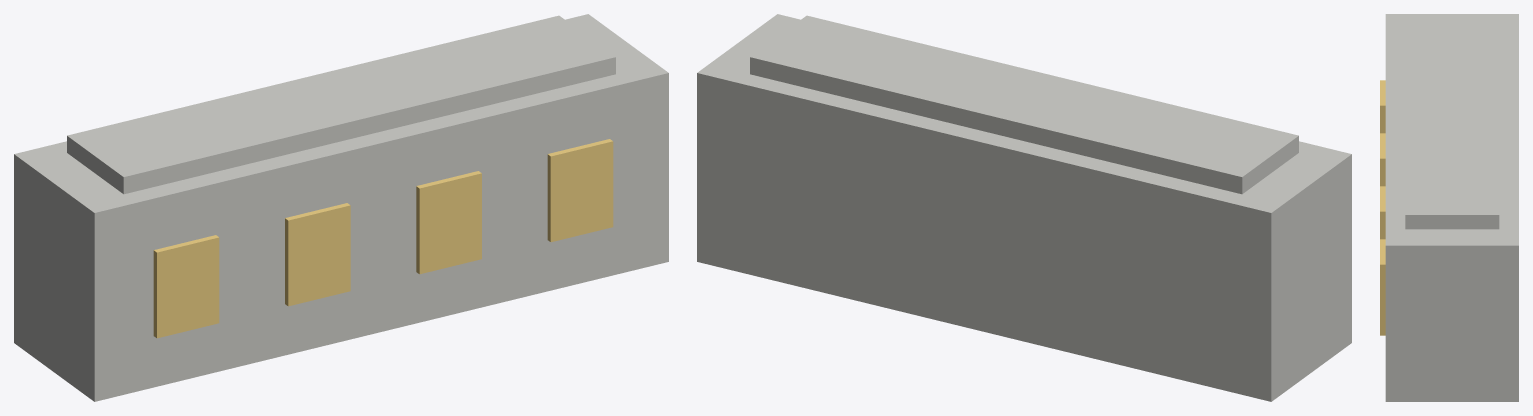
The model's file is concrete-road-block.glb.
The picture shows the model from 3 angles, left to right: view 1: azimuth 30°, elevation 25°; view 2: azimuth 150°, elevation 25°; view 3: azimuth 270°, elevation 25°; orthographic projection. The views are drawn at different scales.
Parts seen in each view (by area): view 1: Barricade routiere; view 2: Barricade routiere; view 3: Barricade routiere.
Part boxes in pixels (x1=…): Barricade routiere: x1=14, y1=14, x2=668, y2=401; Barricade routiere: x1=697, y1=14, x2=1351, y2=401; Barricade routiere: x1=1380, y1=14, x2=1518, y2=401.
Size of the model in its own units: 3.5 by 1.2 by 0.885.
